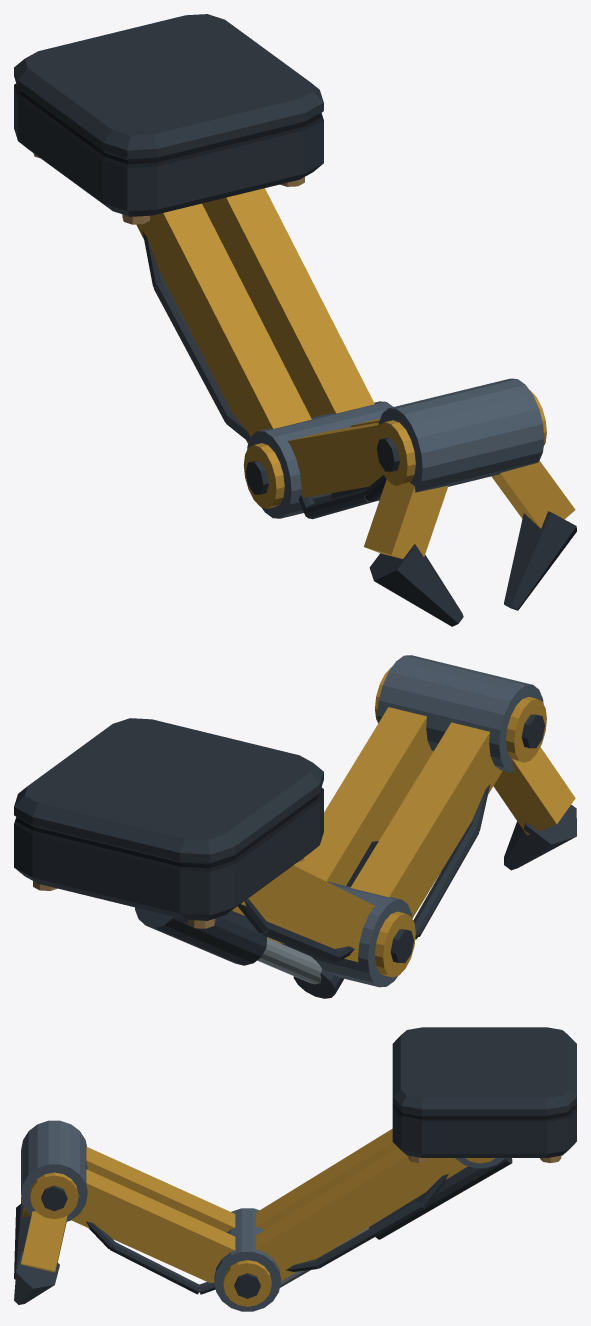
The model's file is A-12_sorting_claw.glb.
3 renders of one model, top to bottom at view 1: azimuth 30°, elevation 25°; view 2: azimuth 150°, elevation 25°; view 3: azimuth 270°, elevation 25°, orthographic. The views are drawn at different scales.
Parts seen in each view (by area): view 1: A-12_sorting_claw; view 2: A-12_sorting_claw; view 3: A-12_sorting_claw.
Part boxes in pixels (left/top/right/bottom): A-12_sorting_claw: left=14, top=14, right=576, bottom=626; A-12_sorting_claw: left=14, top=655, right=576, bottom=998; A-12_sorting_claw: left=14, top=1027, right=576, bottom=1311.
Size of the model in its own units: 0.42 by 0.6094 by 1.28.
